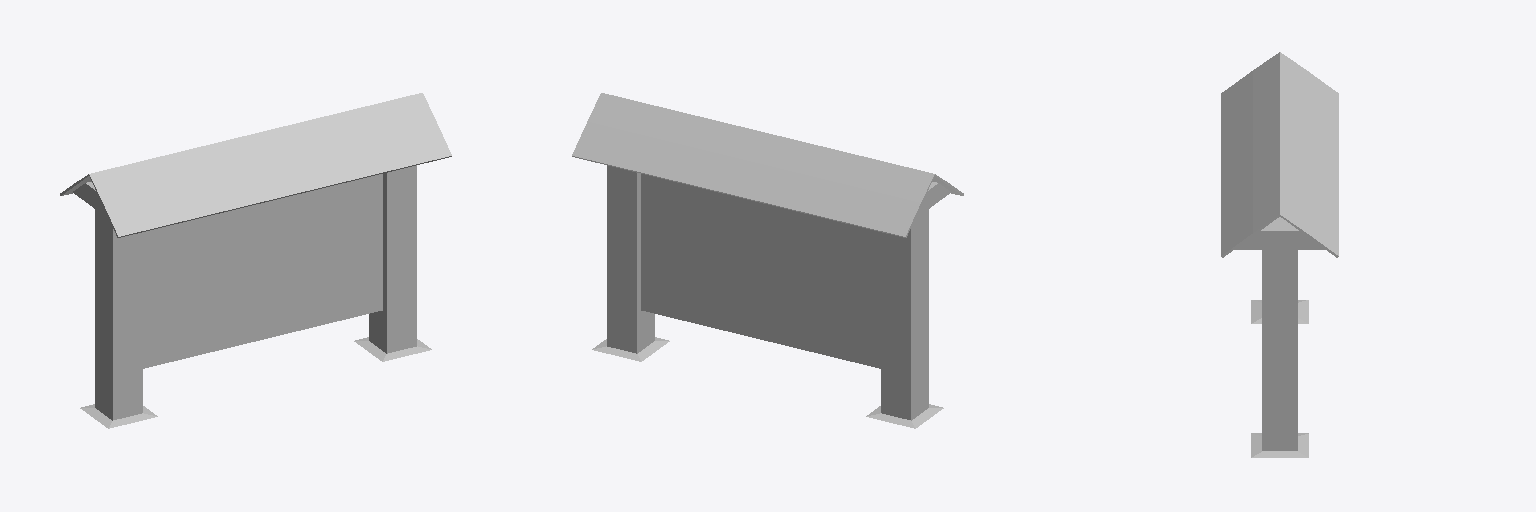
File: noticeboard.obj
The picture shows the model from 3 angles: view 1: azimuth 30°, elevation 25°; view 2: azimuth 150°, elevation 25°; view 3: azimuth 270°, elevation 25°; orthographic projection.
Visible parts, largest first — view 1: noticeboard; view 2: noticeboard; view 3: noticeboard.
Part boxes in pixels (x1,y1,x2,y2): noticeboard: (60, 93, 451, 428); noticeboard: (572, 93, 963, 428); noticeboard: (1221, 52, 1338, 457).
Bounding box in the file's own units: 10.95 × 7.71 × 3.35.